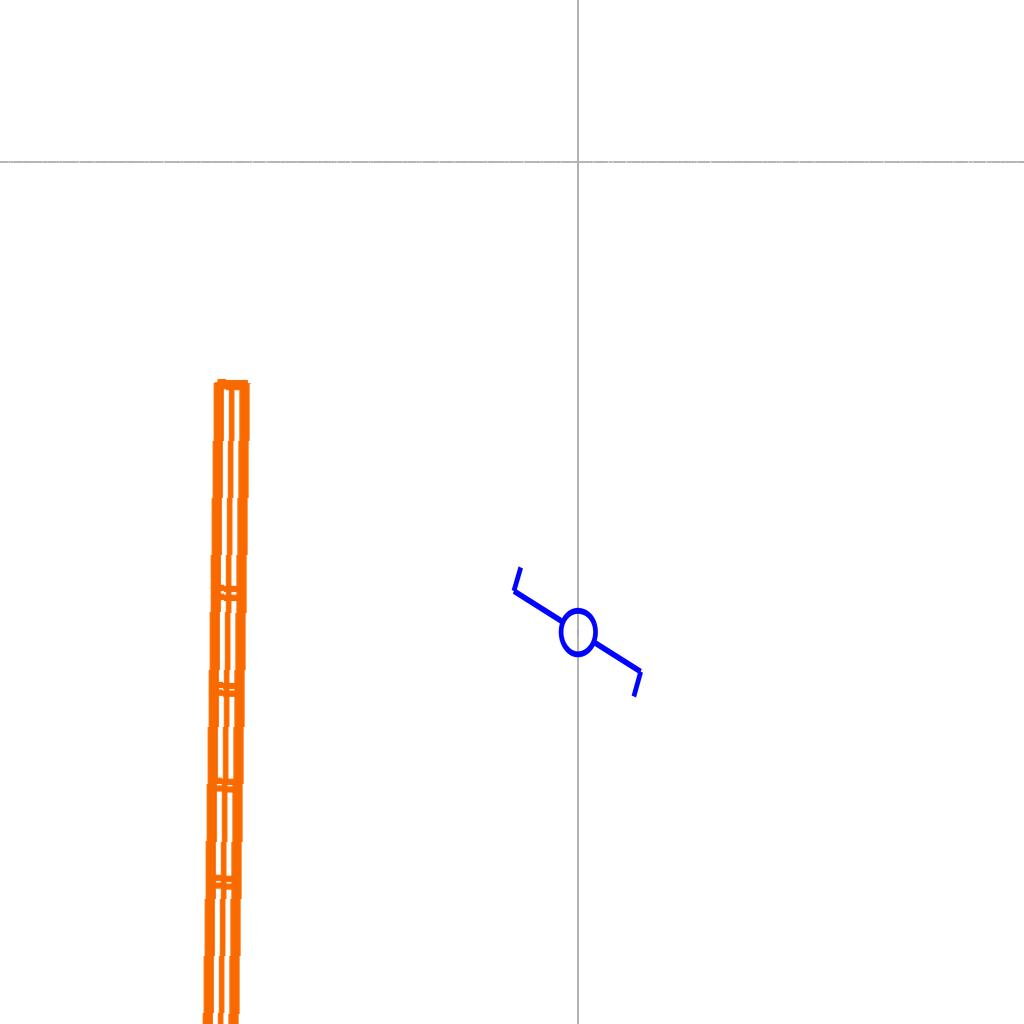Ambulanz_Pendelleuchte_LED: (188, 368, 314, 1024)
Wechselschalter: (504, 562, 648, 719)
